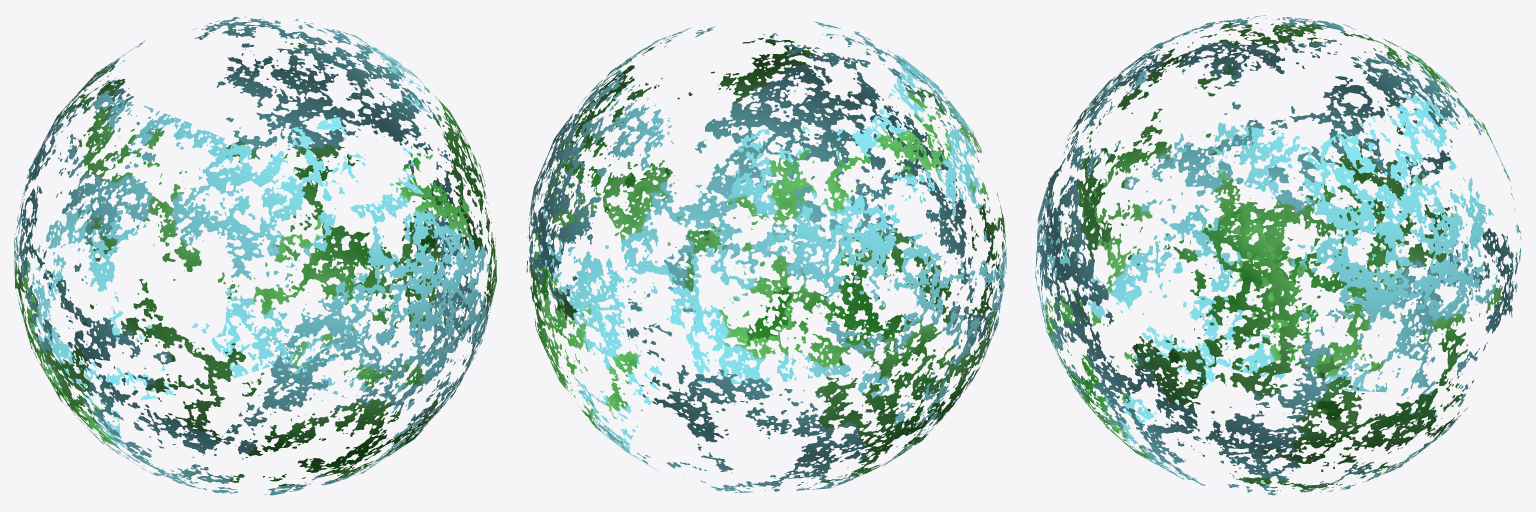
The model's file is Moon Holo.fbx.
The picture shows the model from 3 angles, left to right: view 1: azimuth 30°, elevation 25°; view 2: azimuth 150°, elevation 25°; view 3: azimuth 270°, elevation 25°; orthographic projection.
Parts seen in each view (by area): view 1: s3d-moon-proj_252.Shape; view 2: s3d-moon-proj_252.Shape; view 3: s3d-moon-proj_252.Shape.
Boxes of the visible parts, x1,y1,x2,y2 form: s3d-moon-proj_252.Shape: (14,16,496,495); s3d-moon-proj_252.Shape: (526,21,1006,492); s3d-moon-proj_252.Shape: (1035,15,1521,495).
Size of the model in its own units: 38.58 by 38.82 by 38.65.
Materials: 1 (1 with a texture image).
